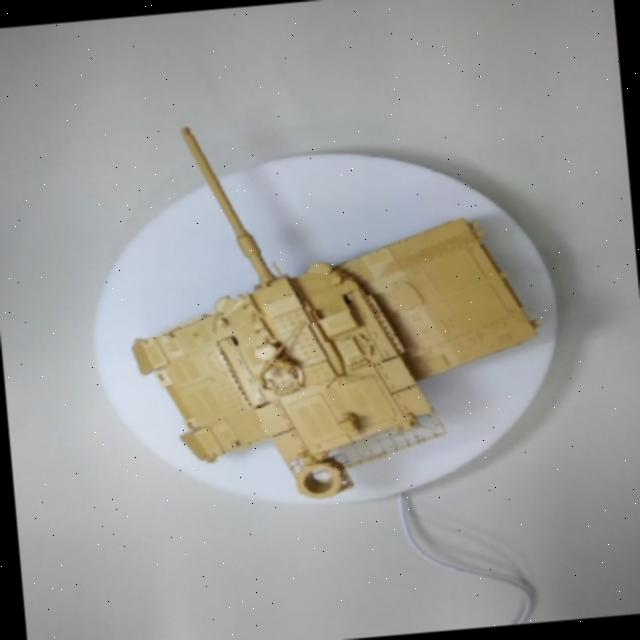korea tank: (80, 55, 546, 512)
